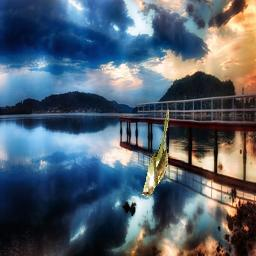Cuckoo: (139, 109, 169, 197)
